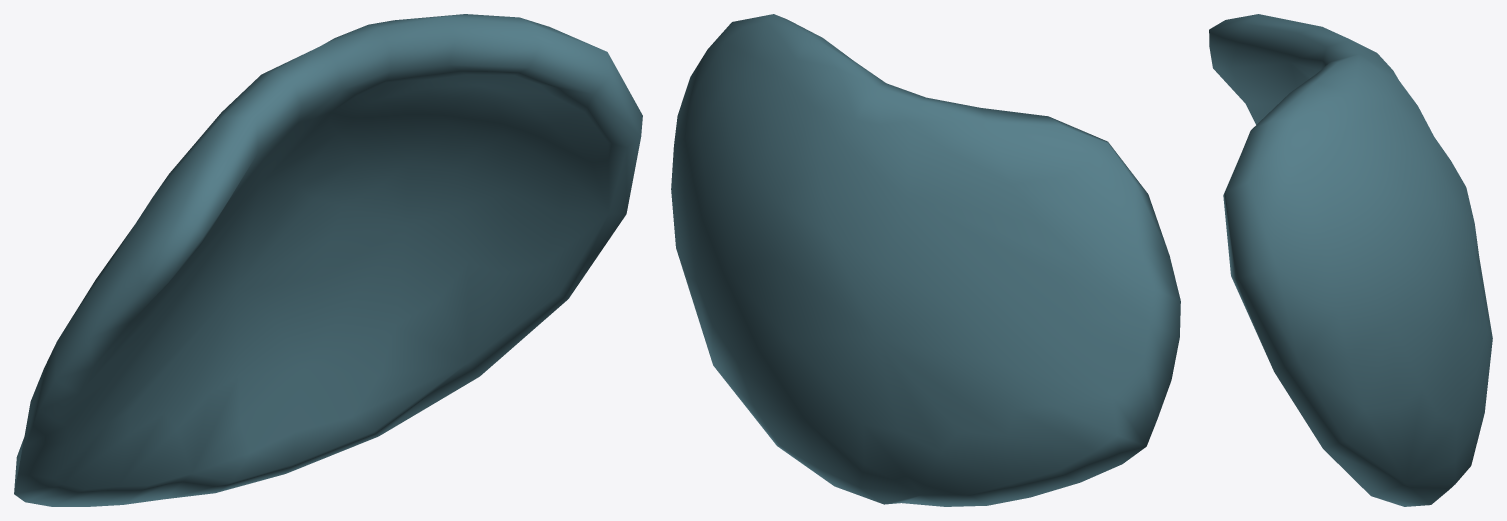
File: Sesamoid_bones_foot_right_001.glb
The picture shows the model from 3 angles, left to right: view 1: azimuth 30°, elevation 25°; view 2: azimuth 150°, elevation 25°; view 3: azimuth 270°, elevation 25°; orthographic projection. The views are drawn at different scales.
Visible parts, largest first — view 1: Sesamoid_bones_of_foot.r.001_Generated_Mesh_From_X3D.254; view 2: Sesamoid_bones_of_foot.r.001_Generated_Mesh_From_X3D.254; view 3: Sesamoid_bones_of_foot.r.001_Generated_Mesh_From_X3D.254.
Boxes of the visible parts, bbox=[...] form: Sesamoid_bones_of_foot.r.001_Generated_Mesh_From_X3D.254: bbox=[14, 14, 642, 506]; Sesamoid_bones_of_foot.r.001_Generated_Mesh_From_X3D.254: bbox=[671, 14, 1180, 506]; Sesamoid_bones_of_foot.r.001_Generated_Mesh_From_X3D.254: bbox=[1209, 14, 1492, 506].
Bounding box in the file's own units: 0.00516 × 0.00393 × 0.00218.
